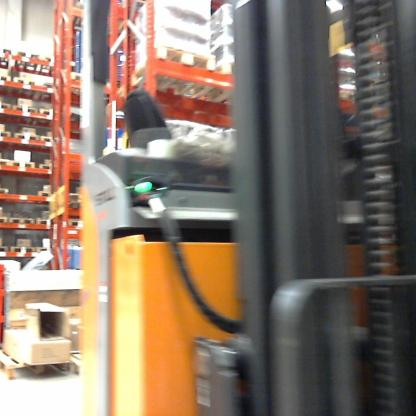forklift: (71, 0, 415, 410)
pallet: (106, 36, 214, 119), (194, 61, 258, 118), (2, 339, 84, 383), (0, 40, 35, 75), (36, 76, 71, 104), (25, 50, 56, 77), (11, 73, 36, 101), (56, 208, 82, 234), (37, 103, 69, 121), (8, 155, 36, 175), (9, 209, 34, 229), (36, 185, 62, 204), (70, 68, 91, 91), (34, 216, 60, 233), (1, 69, 16, 97), (12, 128, 37, 144), (12, 104, 42, 116), (0, 93, 15, 116), (40, 134, 66, 146), (36, 163, 60, 175), (1, 124, 13, 145), (11, 245, 36, 255), (0, 210, 11, 230), (35, 245, 59, 254), (0, 242, 9, 257), (2, 184, 11, 199), (2, 154, 9, 170)
